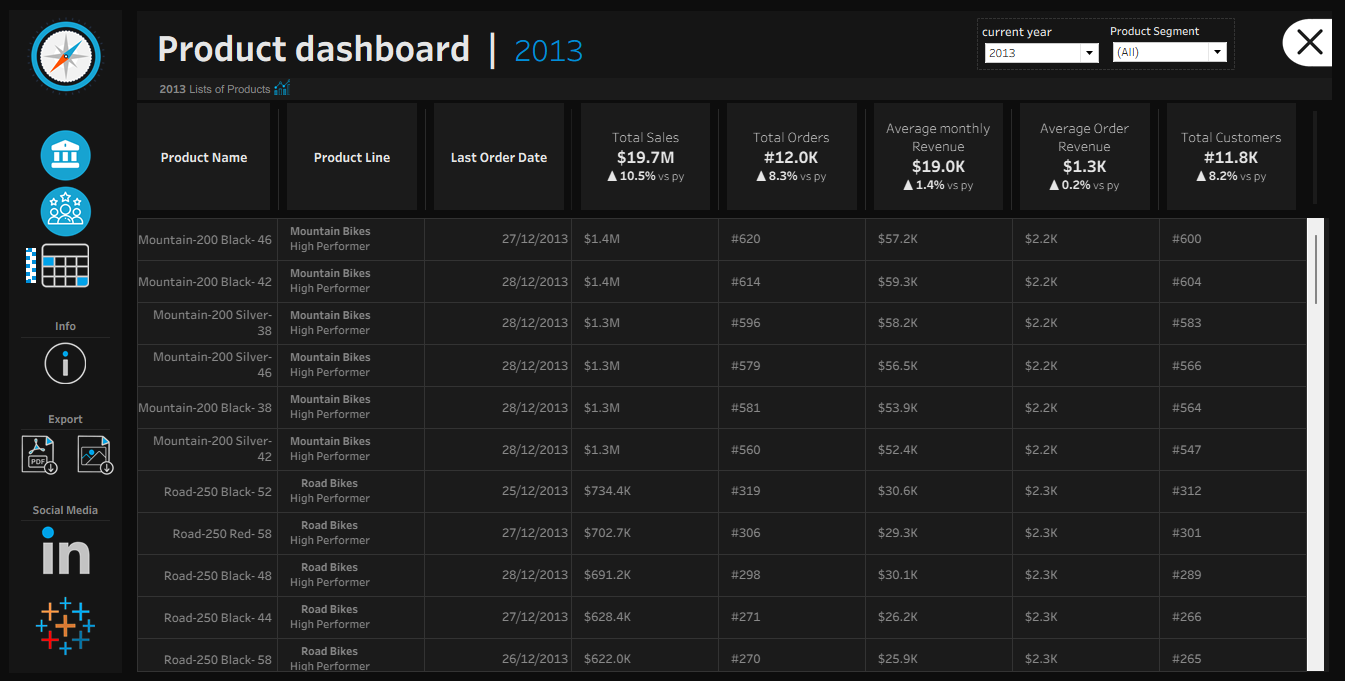

Layout of this report page (visuals, bound fields, positions):
{"tool":"tableau","page":{"name":"product summary","canvas":[1350,685],"ordinal":1},"visuals":[{"type":"blank","box":[107,0,1244,157]},{"type":"blank","box":[125,0,1225,13]},{"type":"blank","box":[12,12,113,5]},{"type":"text","box":[125,13,1225,71]},{"type":"image","param":"Image/Icon - Logo.png","box":[12,17,113,81.8]},{"type":"dashboard-object","box":[1280,19,60,50]},{"type":"parameter","param":"[Parameters].[Parameter 1]","box":[981,21,128,50]},{"type":"filter","title":"product details","param":"[federated.161zla0060zqej18oj0ki0lm94rn].[none:product_segment:nk]","box":[1109,21,128,50]},{"type":"image","param":"Image/dashboard-summary-active baraa.png","box":[262,79,46,18]},{"type":"text","box":[140,80,1195,22]},{"type":"blank","box":[12,98.8,113,30]},{"type":"text","box":[140,105,137.5,111]},{"type":"blank","box":[277.5,105,9,111]},{"type":"text","box":[286.5,105,137.5,111]},{"type":"blank","box":[424,105,9,111]},{"type":"text","box":[433,105,137.5,111]},{"type":"blank","box":[570.5,105,9,111]},{"type":"worksheet","title":"BAN p. sales","mark":"Automatic","box":[579.5,105,137.5,111]},{"type":"blank","box":[717,105,9,111]},{"type":"worksheet","title":"BAN P. orders","mark":"Automatic","box":[726,105,137.5,111]},{"type":"blank","box":[863.5,105,9,111]},{"type":"worksheet","title":"BAN p.avg monthly revenue","mark":"Automatic","box":[872.5,105,137.5,111]},{"type":"blank","box":[1010,105,9,111]},{"type":"worksheet","title":"BAN p. avg order revenue","mark":"Automatic","box":[1019,105,137.5,111]},{"type":"blank","box":[1156.5,105,9,111]},{"type":"worksheet","title":"BAN p. customers","mark":"Automatic","box":[1165.5,105,137.5,111]},{"type":"blank","box":[1303,105,30,111]},{"type":"dashboard-object","box":[12,128.8,113,56]},{"type":"text","box":[107,157,1244,371]},{"type":"dashboard-object","box":[12,184.8,113,56]},{"type":"worksheet","title":"product details","mark":"Shape","rows":["product_name"],"cols":["Calculation_210824774277869606","Calculation_210824774328098863","Calculation_210824774328303665","Calculation_210824774330339380","Calculation_210824774332715064","Calculation_210824774438117437","Calculation_210824774441562176"],"box":[139,216,1197,462]},{"type":"dashboard-object","box":[12,240.8,113,50]},{"type":"blank","box":[29,250,10,35]},{"type":"blank","box":[12,290.8,113,25]},{"type":"text","box":[12,315.8,113,23]},{"type":"blank","box":[12,338.8,113,1]},{"type":"dashboard-object","box":[12,339.8,113,46]},{"type":"blank","box":[12,385.8,113,25]},{"type":"text","box":[12,410.8,113,20]},{"type":"blank","box":[12,430.8,113,1]},{"type":"dashboard-object","box":[12,436,57,41]},{"type":"dashboard-object","box":[69,436,56,41]},{"type":"blank","box":[12,476.8,113,25]},{"type":"text","box":[12,501.8,113,20]},{"type":"blank","box":[12,521.8,113,1]},{"type":"image","param":"Image/contact-linkedin baraa.png","box":[12,522.8,113,55]},{"type":"blank","box":[107,528,1244,157]},{"type":"blank","box":[12,577.8,113,10]},{"type":"blank","box":[12,587.8,113,10]},{"type":"image","param":"Image/contact-public baraa.png","box":[12,597.8,113,60]},{"type":"blank","box":[12,657.8,113,17.2]}]}

Visuals, with their boxes on the page's 1350x685 design canvas (x1, y1, x2, y2). These are canvas units, not pixel positions in the 1345x681 screenshot, which may show the page scaled, cropped or inside an application window:
blank: pyautogui.locateOnScreen(107, 0, 1351, 157)
blank: pyautogui.locateOnScreen(125, 0, 1350, 13)
blank: pyautogui.locateOnScreen(12, 12, 125, 17)
text: pyautogui.locateOnScreen(125, 13, 1350, 84)
image: pyautogui.locateOnScreen(12, 17, 125, 99)
dashboard-object: pyautogui.locateOnScreen(1280, 19, 1340, 69)
parameter: pyautogui.locateOnScreen(981, 21, 1109, 71)
"product details" filter: pyautogui.locateOnScreen(1109, 21, 1237, 71)
image: pyautogui.locateOnScreen(262, 79, 308, 97)
text: pyautogui.locateOnScreen(140, 80, 1335, 102)
blank: pyautogui.locateOnScreen(12, 99, 125, 129)
text: pyautogui.locateOnScreen(140, 105, 278, 216)
blank: pyautogui.locateOnScreen(278, 105, 286, 216)
text: pyautogui.locateOnScreen(286, 105, 424, 216)
blank: pyautogui.locateOnScreen(424, 105, 433, 216)
text: pyautogui.locateOnScreen(433, 105, 570, 216)
blank: pyautogui.locateOnScreen(570, 105, 580, 216)
"BAN p. sales" worksheet: pyautogui.locateOnScreen(580, 105, 717, 216)
blank: pyautogui.locateOnScreen(717, 105, 726, 216)
"BAN P. orders" worksheet: pyautogui.locateOnScreen(726, 105, 864, 216)
blank: pyautogui.locateOnScreen(864, 105, 872, 216)
"BAN p.avg monthly revenue" worksheet: pyautogui.locateOnScreen(872, 105, 1010, 216)
blank: pyautogui.locateOnScreen(1010, 105, 1019, 216)
"BAN p. avg order revenue" worksheet: pyautogui.locateOnScreen(1019, 105, 1156, 216)
blank: pyautogui.locateOnScreen(1156, 105, 1166, 216)
"BAN p. customers" worksheet: pyautogui.locateOnScreen(1166, 105, 1303, 216)
blank: pyautogui.locateOnScreen(1303, 105, 1333, 216)
dashboard-object: pyautogui.locateOnScreen(12, 129, 125, 185)
text: pyautogui.locateOnScreen(107, 157, 1351, 528)
dashboard-object: pyautogui.locateOnScreen(12, 185, 125, 241)
"product details" worksheet (Shape marks): pyautogui.locateOnScreen(139, 216, 1336, 678)
dashboard-object: pyautogui.locateOnScreen(12, 241, 125, 291)
blank: pyautogui.locateOnScreen(29, 250, 39, 285)
blank: pyautogui.locateOnScreen(12, 291, 125, 316)
text: pyautogui.locateOnScreen(12, 316, 125, 339)
blank: pyautogui.locateOnScreen(12, 339, 125, 340)
dashboard-object: pyautogui.locateOnScreen(12, 340, 125, 386)
blank: pyautogui.locateOnScreen(12, 386, 125, 411)
text: pyautogui.locateOnScreen(12, 411, 125, 431)
blank: pyautogui.locateOnScreen(12, 431, 125, 432)
dashboard-object: pyautogui.locateOnScreen(12, 436, 69, 477)
dashboard-object: pyautogui.locateOnScreen(69, 436, 125, 477)
blank: pyautogui.locateOnScreen(12, 477, 125, 502)
text: pyautogui.locateOnScreen(12, 502, 125, 522)
blank: pyautogui.locateOnScreen(12, 522, 125, 523)
image: pyautogui.locateOnScreen(12, 523, 125, 578)
blank: pyautogui.locateOnScreen(107, 528, 1351, 685)
blank: pyautogui.locateOnScreen(12, 578, 125, 588)
blank: pyautogui.locateOnScreen(12, 588, 125, 598)
image: pyautogui.locateOnScreen(12, 598, 125, 658)
blank: pyautogui.locateOnScreen(12, 658, 125, 675)
